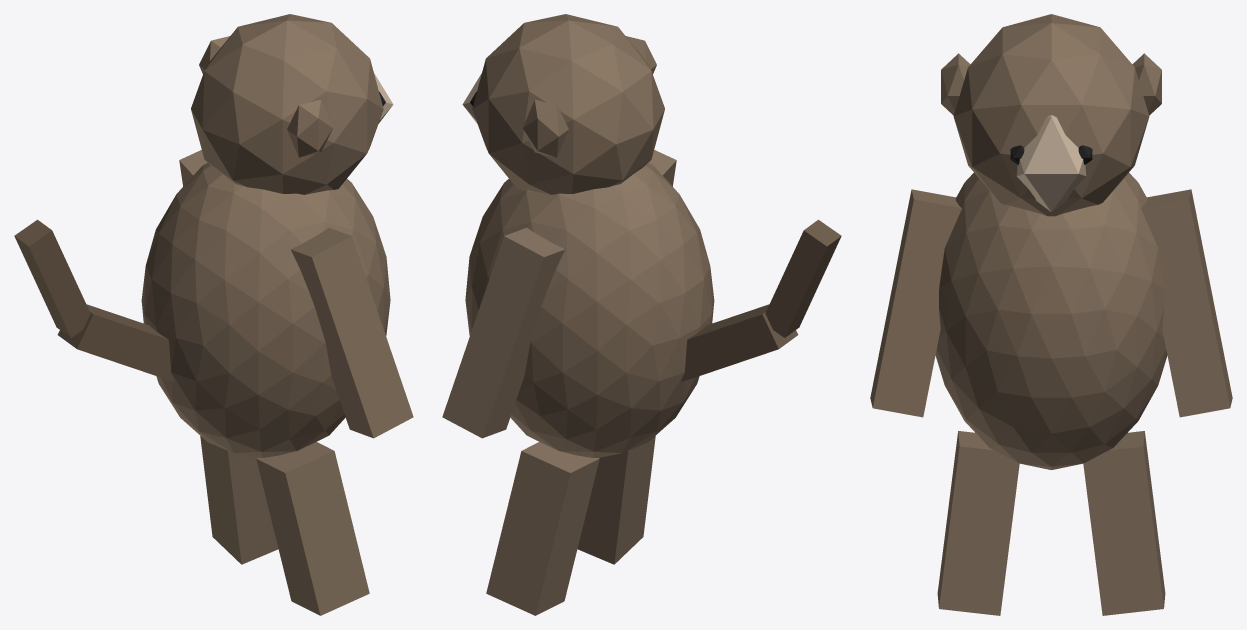
File: monkey_lowpoly.glb
The picture shows the model from 3 angles, left to right: view 1: azimuth 30°, elevation 25°; view 2: azimuth 150°, elevation 25°; view 3: azimuth 270°, elevation 25°; orthographic projection. The views are drawn at different scales.
Parts seen in each view (by area): view 1: body; view 2: body; view 3: body.
Part boxes in pixels (box(x1,y1,x2,y2)): body: box(14, 14, 413, 615); body: box(442, 14, 841, 615); body: box(870, 14, 1232, 615).
Size of the model in its own units: 0.8481 by 1.26 by 0.7027.
